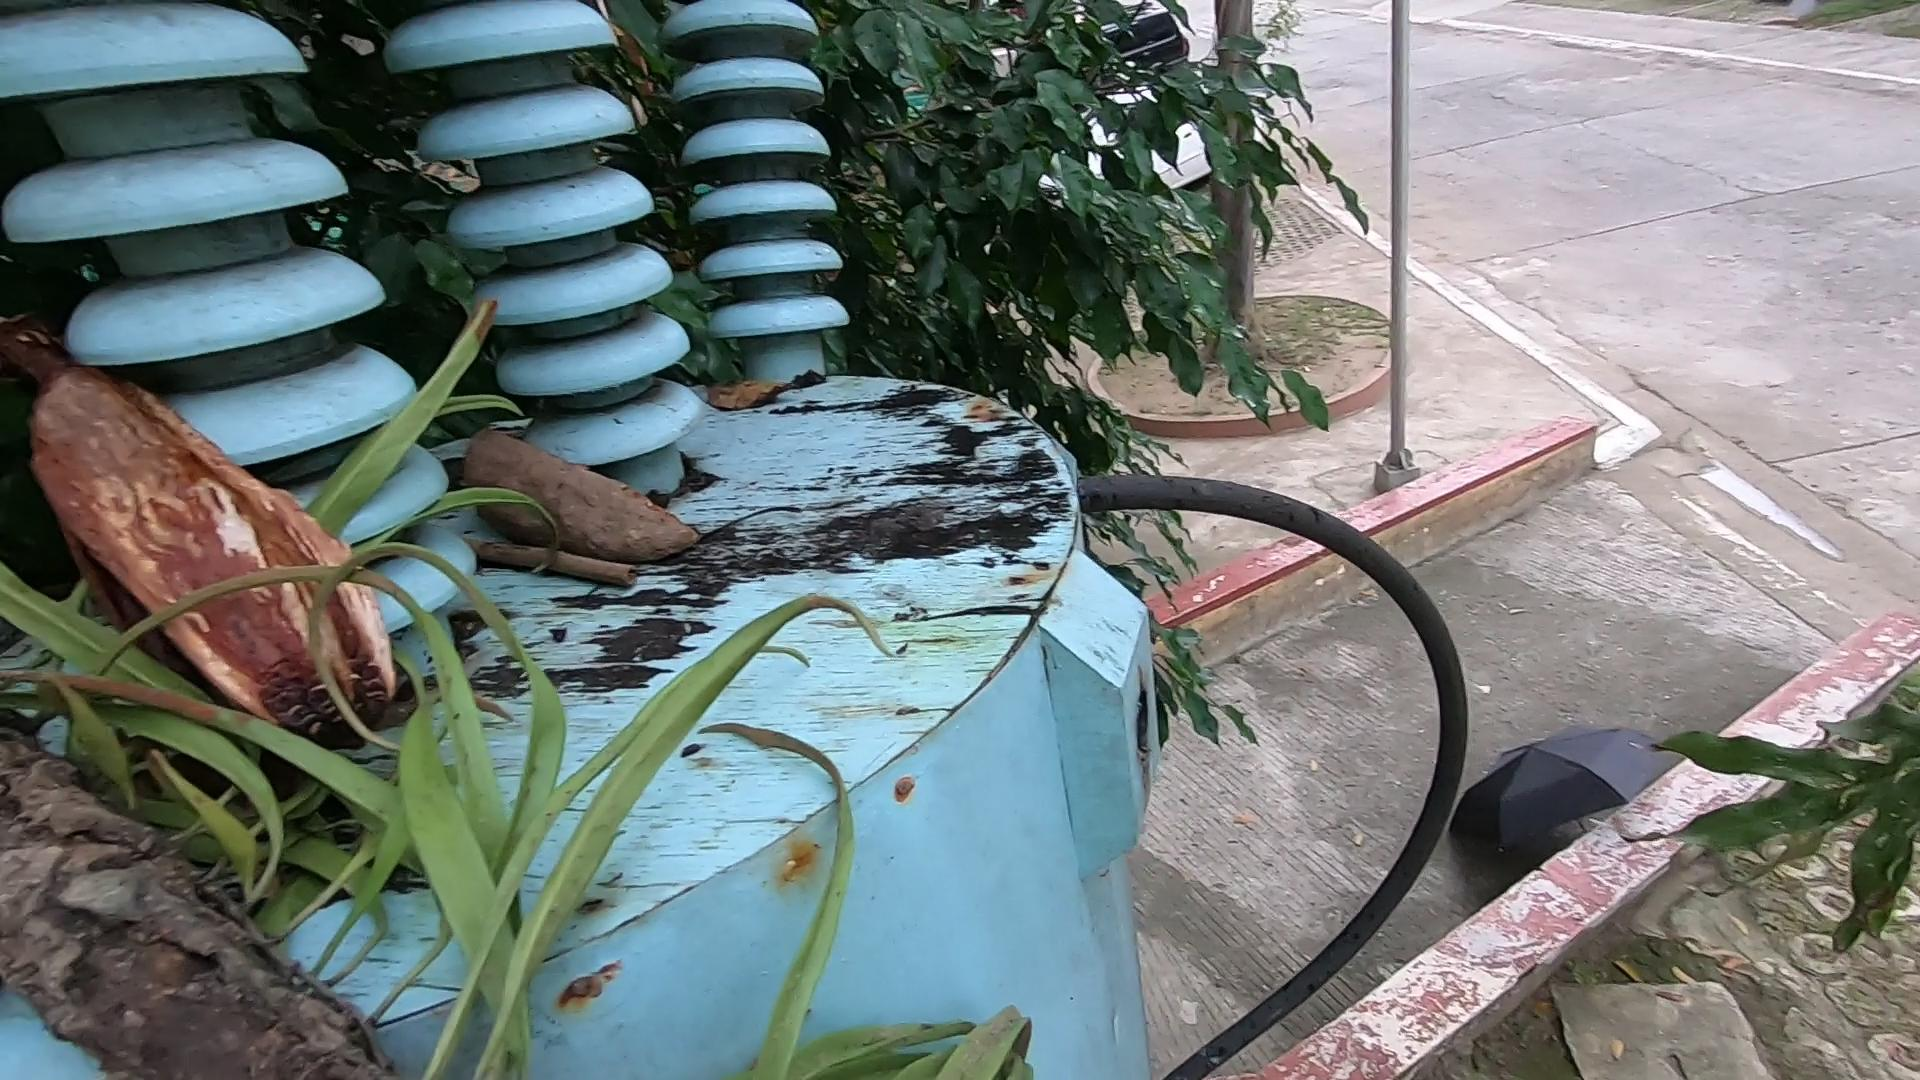branch with leaves: (7, 551, 922, 1073)
leaf: (708, 371, 835, 448)
mahogany fruit: (4, 351, 385, 748), (443, 409, 731, 567)
tree branch: (419, 513, 666, 589)
